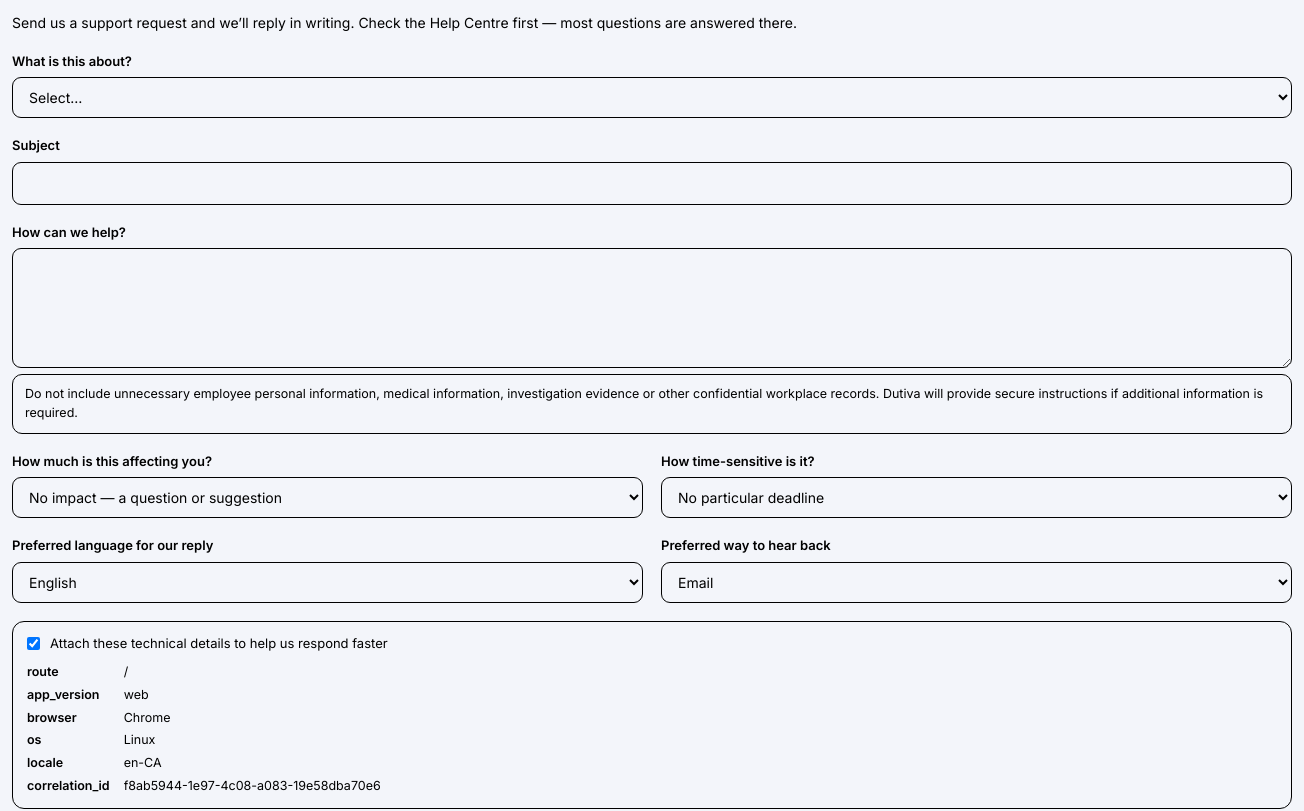
Scenario: SupportRequestForm › reveals the security warning for the security category
This screenshot has width=1304, height=811.
Select "Security concern" in the dropdown labelled "What is this about?" at point(652, 98), box [12, 77, 1292, 118]
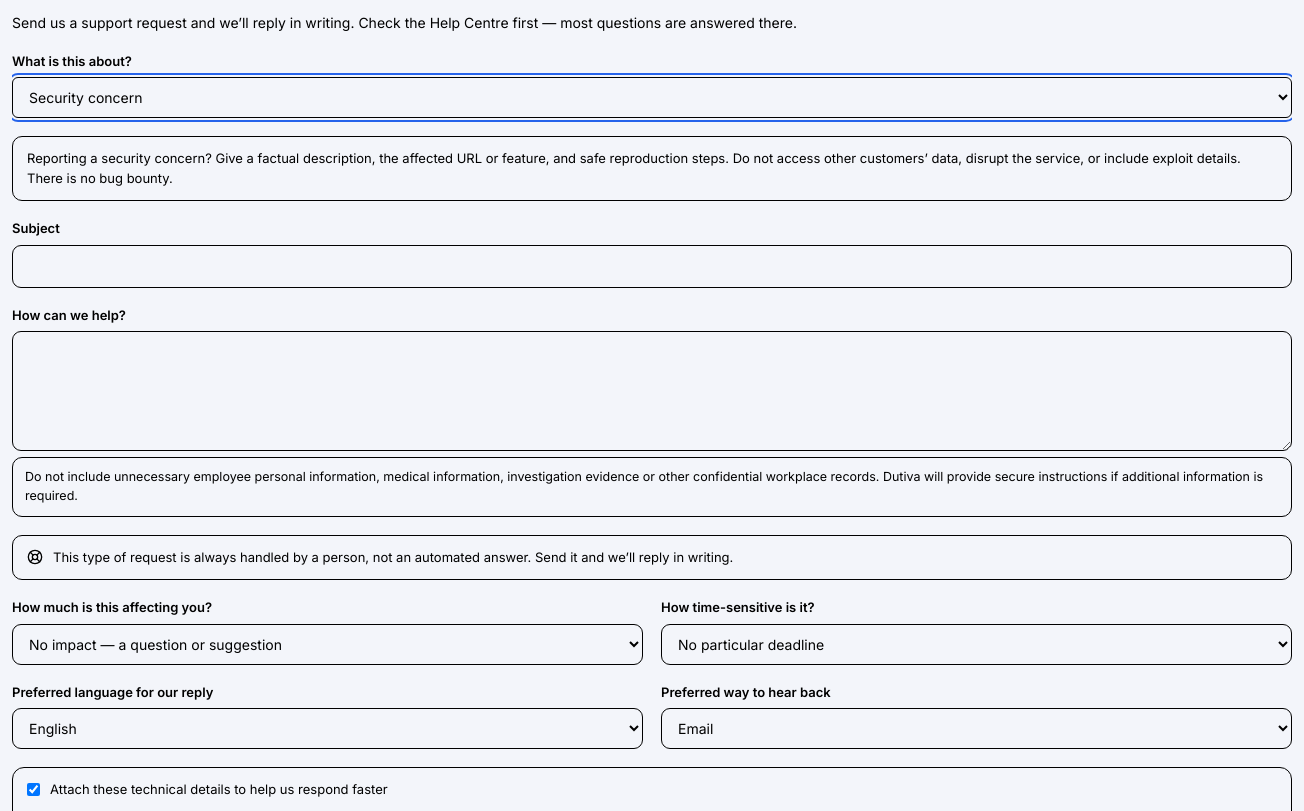
Expected: the text "no bug bounty" is shown, [27, 150, 1241, 186]
